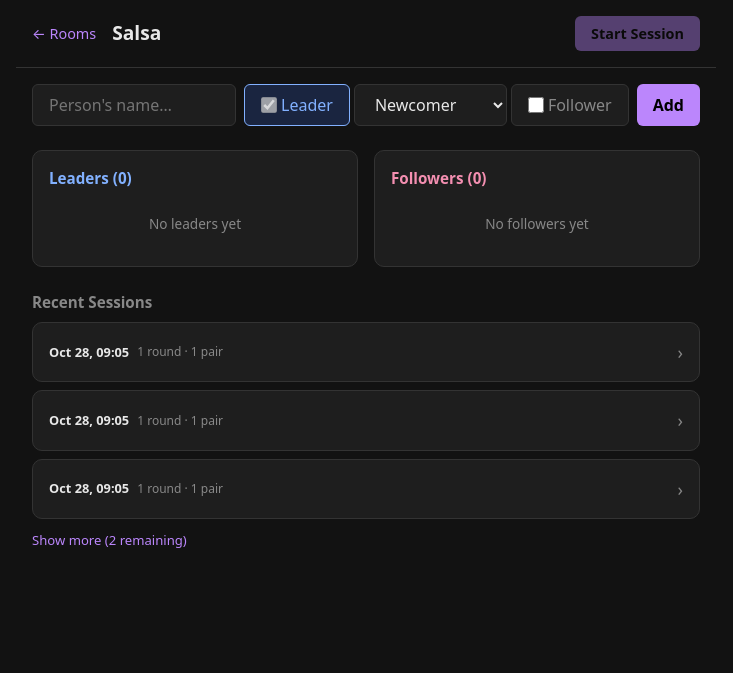
Test: Room page › session history › shows more sessions when "Show more" is clicked
Step 1. Click the button "Show more (2 remaining)" → (70, 540), box left=32, top=527, right=700, bottom=553
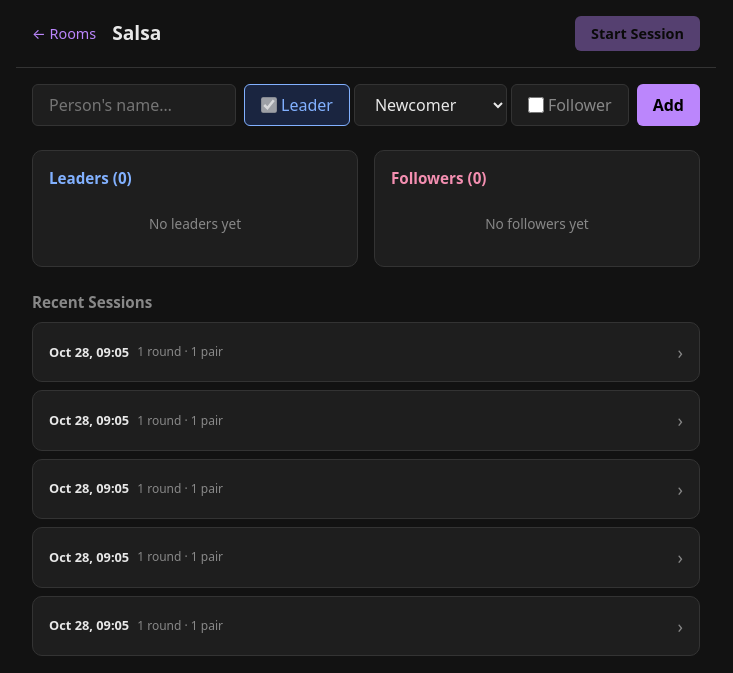
Expected: the button "Show more" is gone
